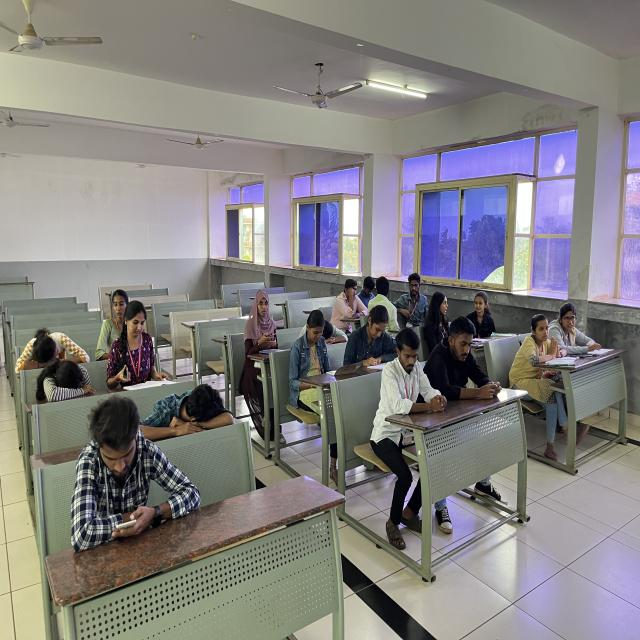Reading: (344, 303, 402, 370)
Sleeping: (143, 373, 242, 438), (14, 318, 94, 364), (32, 359, 104, 400)
Using Phone: (62, 391, 214, 554), (238, 285, 290, 383)
